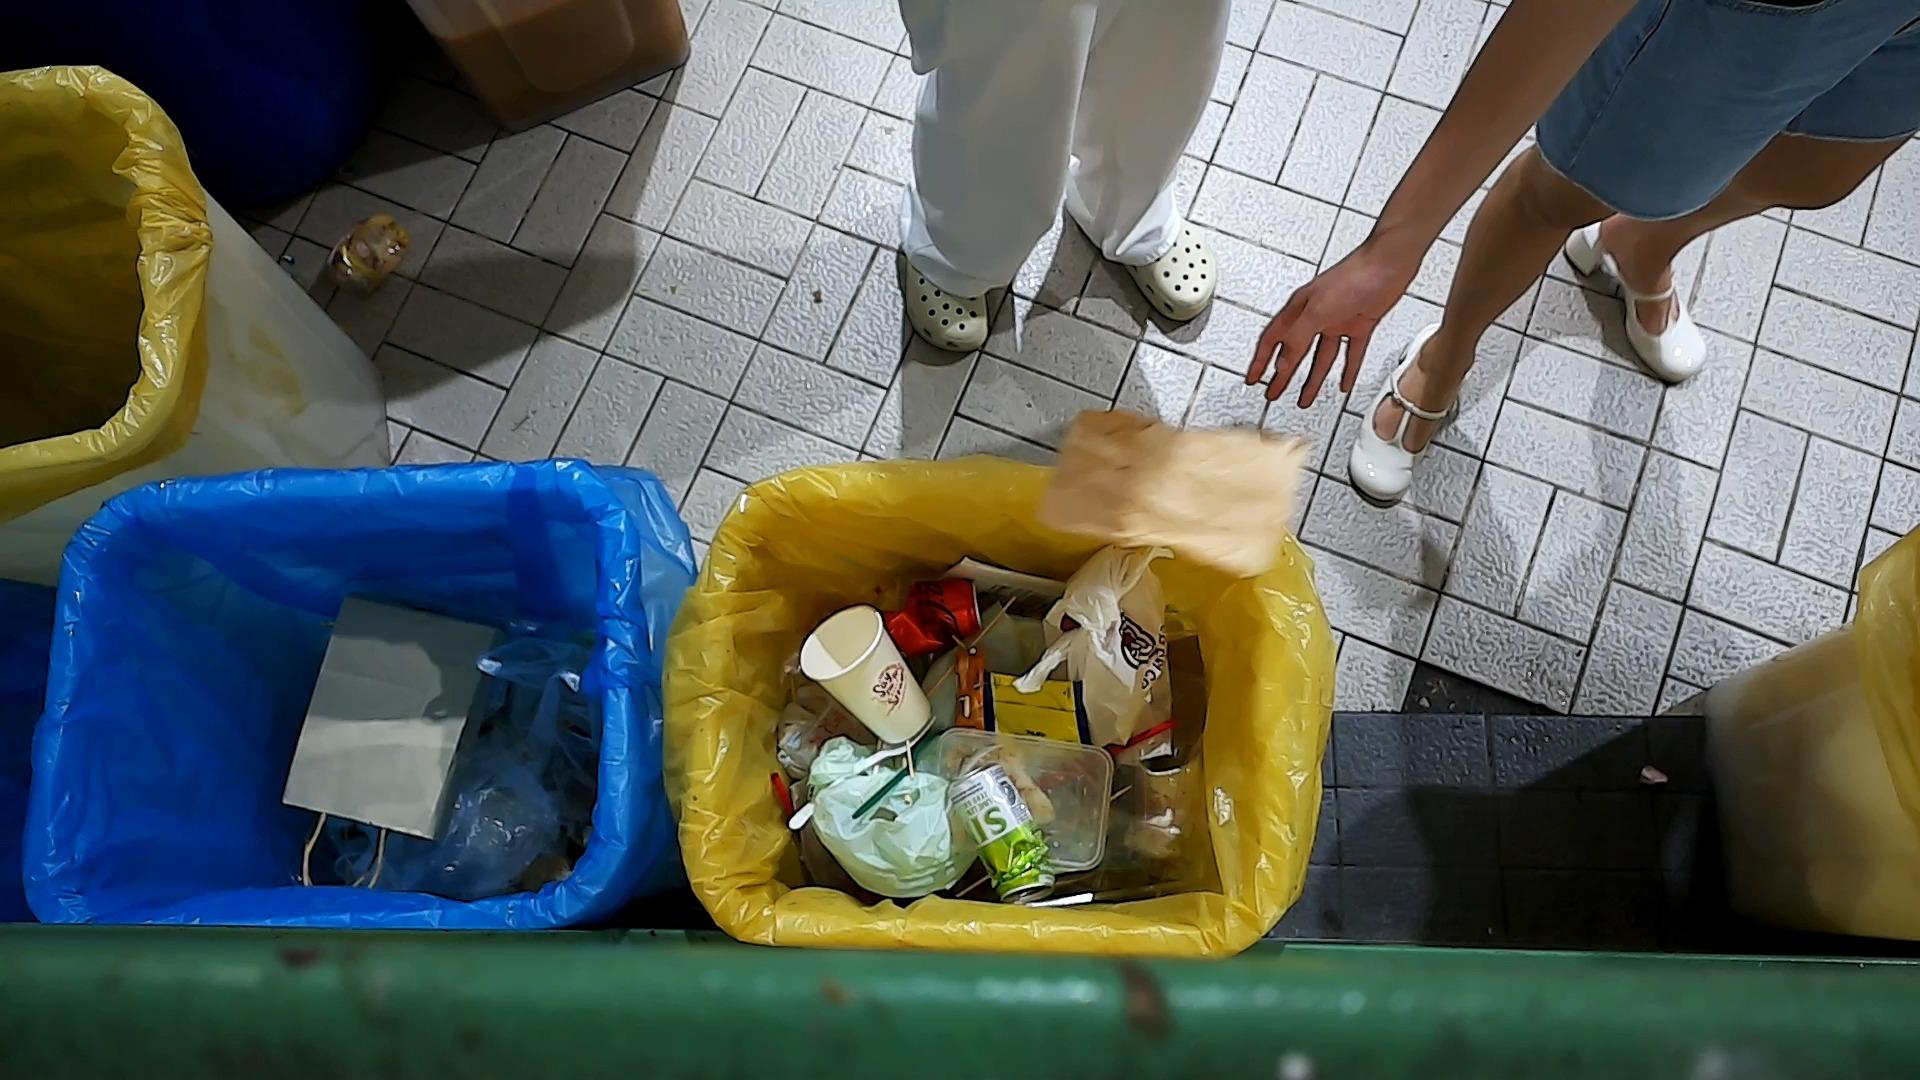can: (942, 757, 1060, 907), (880, 572, 985, 666)
dirty food container: (934, 724, 1118, 877)
filled plastic bag: (1007, 535, 1179, 761), (795, 731, 980, 902)
paper bag: (268, 587, 502, 891), (1027, 404, 1323, 587)
plastic bag: (344, 676, 575, 906)
plastic cutlery: (785, 703, 944, 833), (849, 727, 949, 822)
snack packaging: (978, 667, 1095, 748), (951, 644, 989, 731)
sticks: (913, 595, 1021, 712)
straw: (1108, 715, 1182, 760)
zero waste cup: (794, 599, 938, 749)
